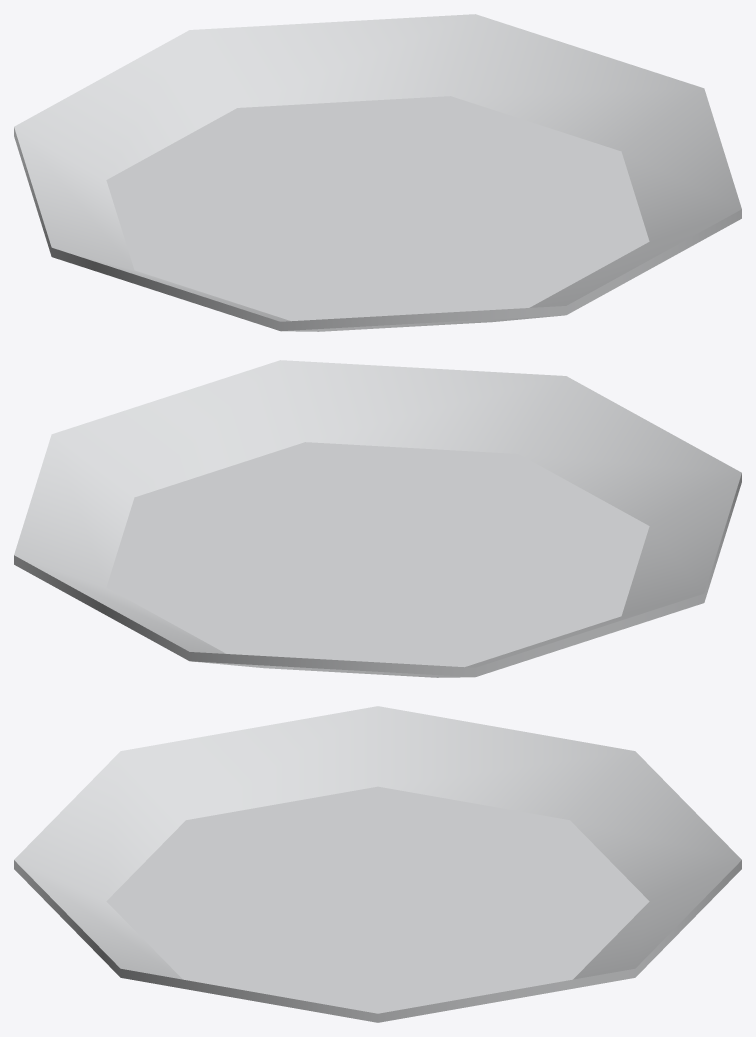
The model's file is plate_005.glb.
The picture shows the model from 3 angles, top to bottom: view 1: azimuth 30°, elevation 25°; view 2: azimuth 150°, elevation 25°; view 3: azimuth 270°, elevation 25°; orthographic projection. The views are drawn at different scales.
Parts seen in each view (by area): view 1: plate.005; view 2: plate.005; view 3: plate.005.
Part boxes in pixels (<box>): plate.005: <box>14,14,741,331</box>; plate.005: <box>14,360,741,677</box>; plate.005: <box>14,706,741,1022</box>.
Bounding box in the file's own units: 1.78 × 0.1887 × 1.78.
1 material, 1 textured.
